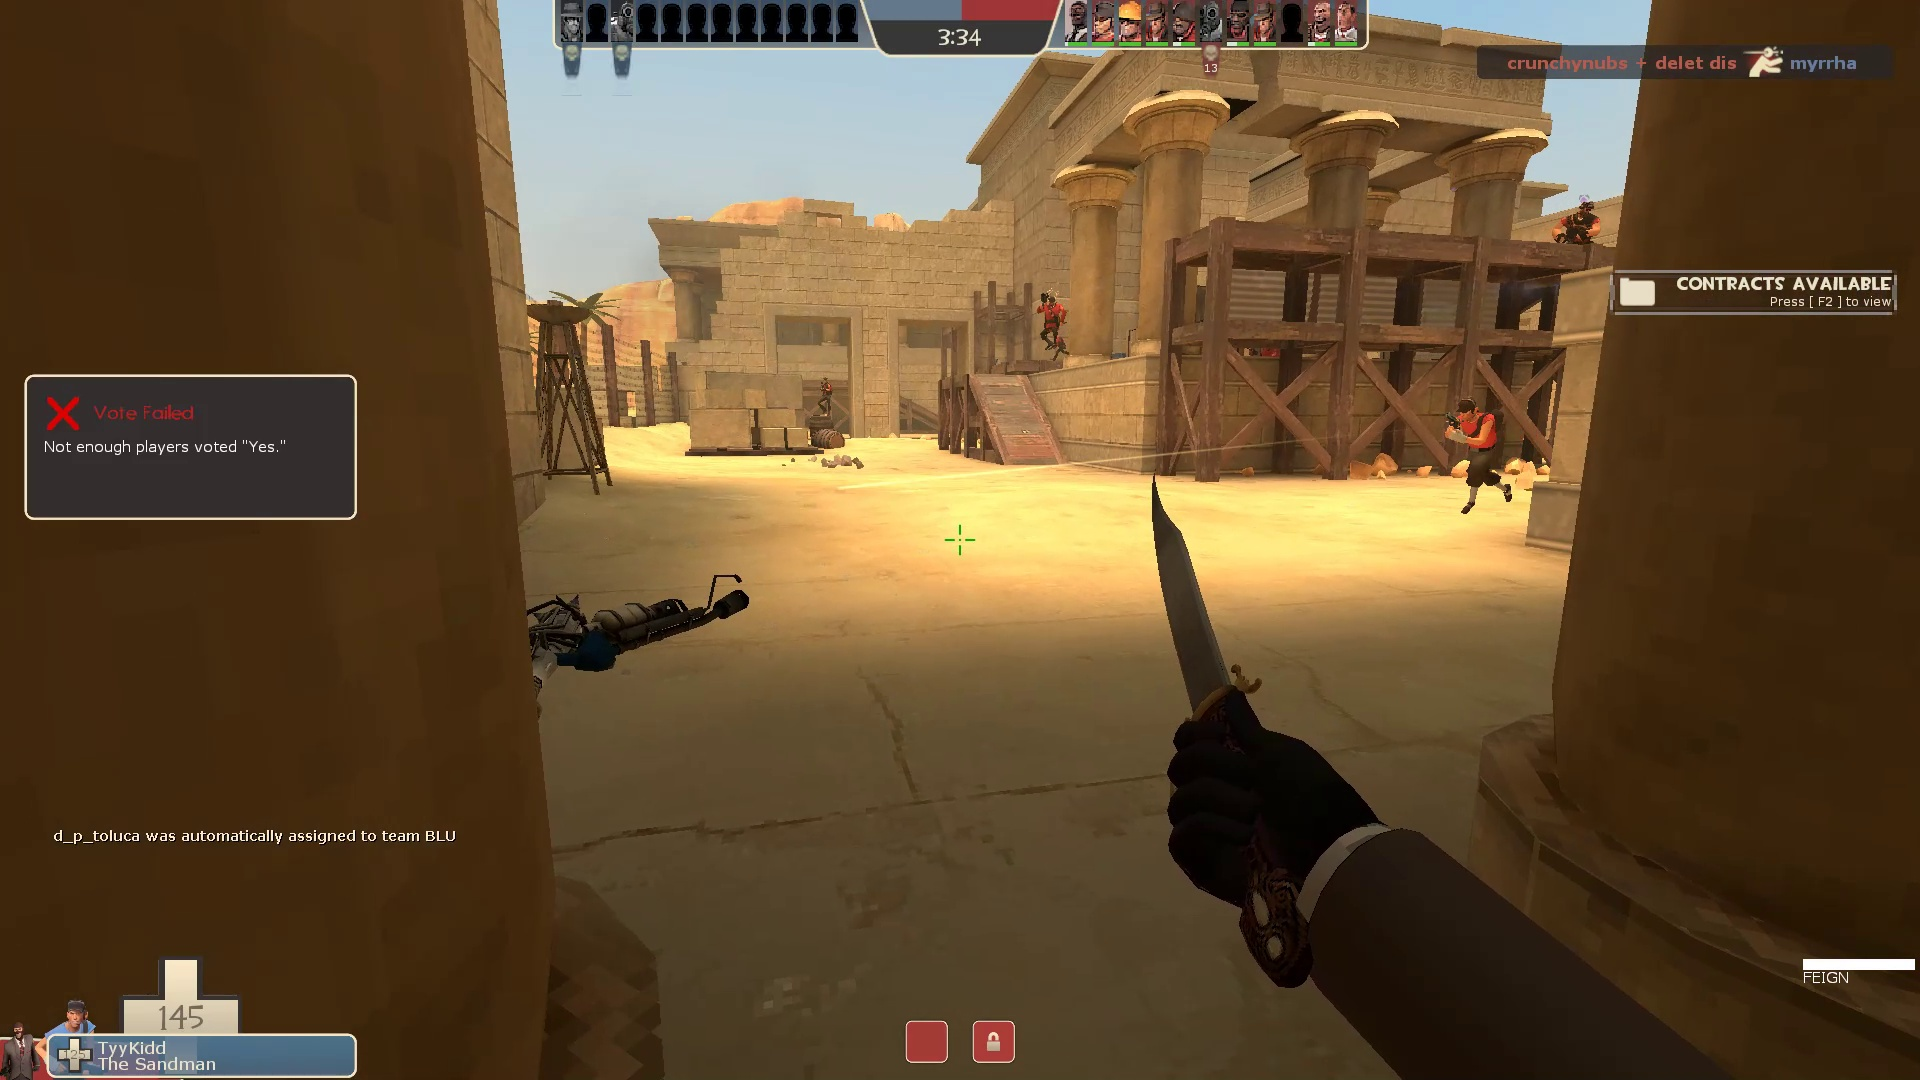red_heavy: (1549, 194, 1609, 269)
red_scout: (1437, 396, 1522, 521)
red_sniper: (814, 375, 843, 419)
red_soldier: (1033, 284, 1069, 356)
